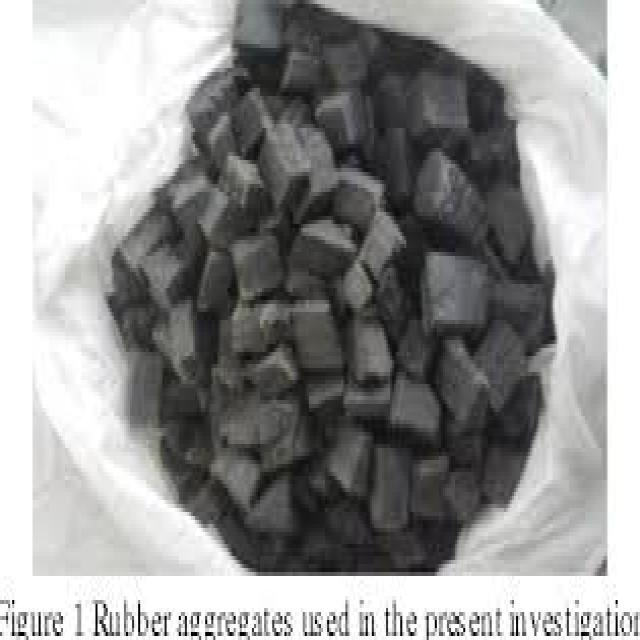Rubber -Non-Biodegradable but Recyclable-: (123, 16, 543, 564)
